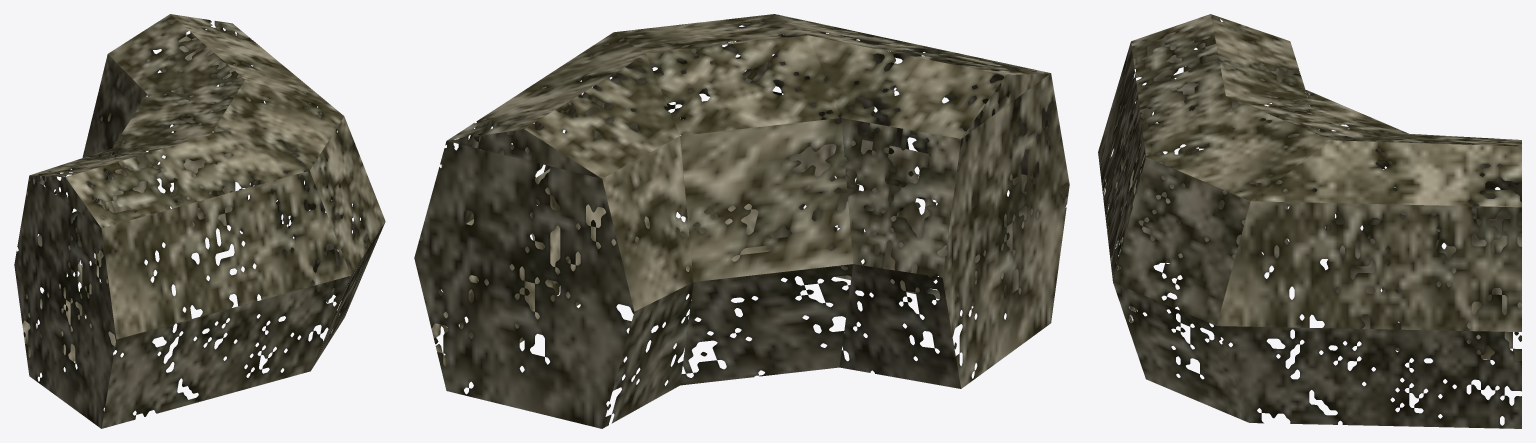
The model's file is bush_round_corner_dead.fbx.
The picture shows the model from 3 angles, left to right: view 1: azimuth 30°, elevation 25°; view 2: azimuth 150°, elevation 25°; view 3: azimuth 270°, elevation 25°; orthographic projection. The views are drawn at different scales.
Parts seen in each view (by area): view 1: bush_round_corner_dead; view 2: bush_round_corner_dead; view 3: bush_round_corner_dead.
Boxes of the visible parts, x1,y1,x2,y2 form: bush_round_corner_dead: (14,14,385,428); bush_round_corner_dead: (414,14,1069,428); bush_round_corner_dead: (1098,14,1521,428).
Size of the model in its own units: 136 by 87.65 by 135.
1 material, 1 textured.
